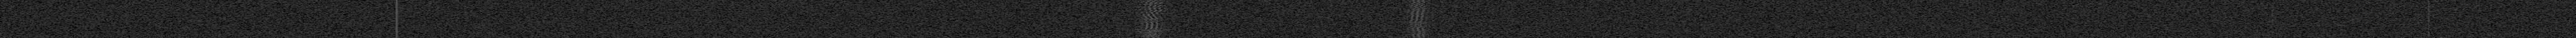wv_am: (389, 0, 404, 38)
wv_cw: (2426, 0, 2431, 38)
wv_lsb: (2270, 2, 2274, 38)
wv_wbfm: (1129, 0, 1178, 38), (1400, 0, 1436, 38)
